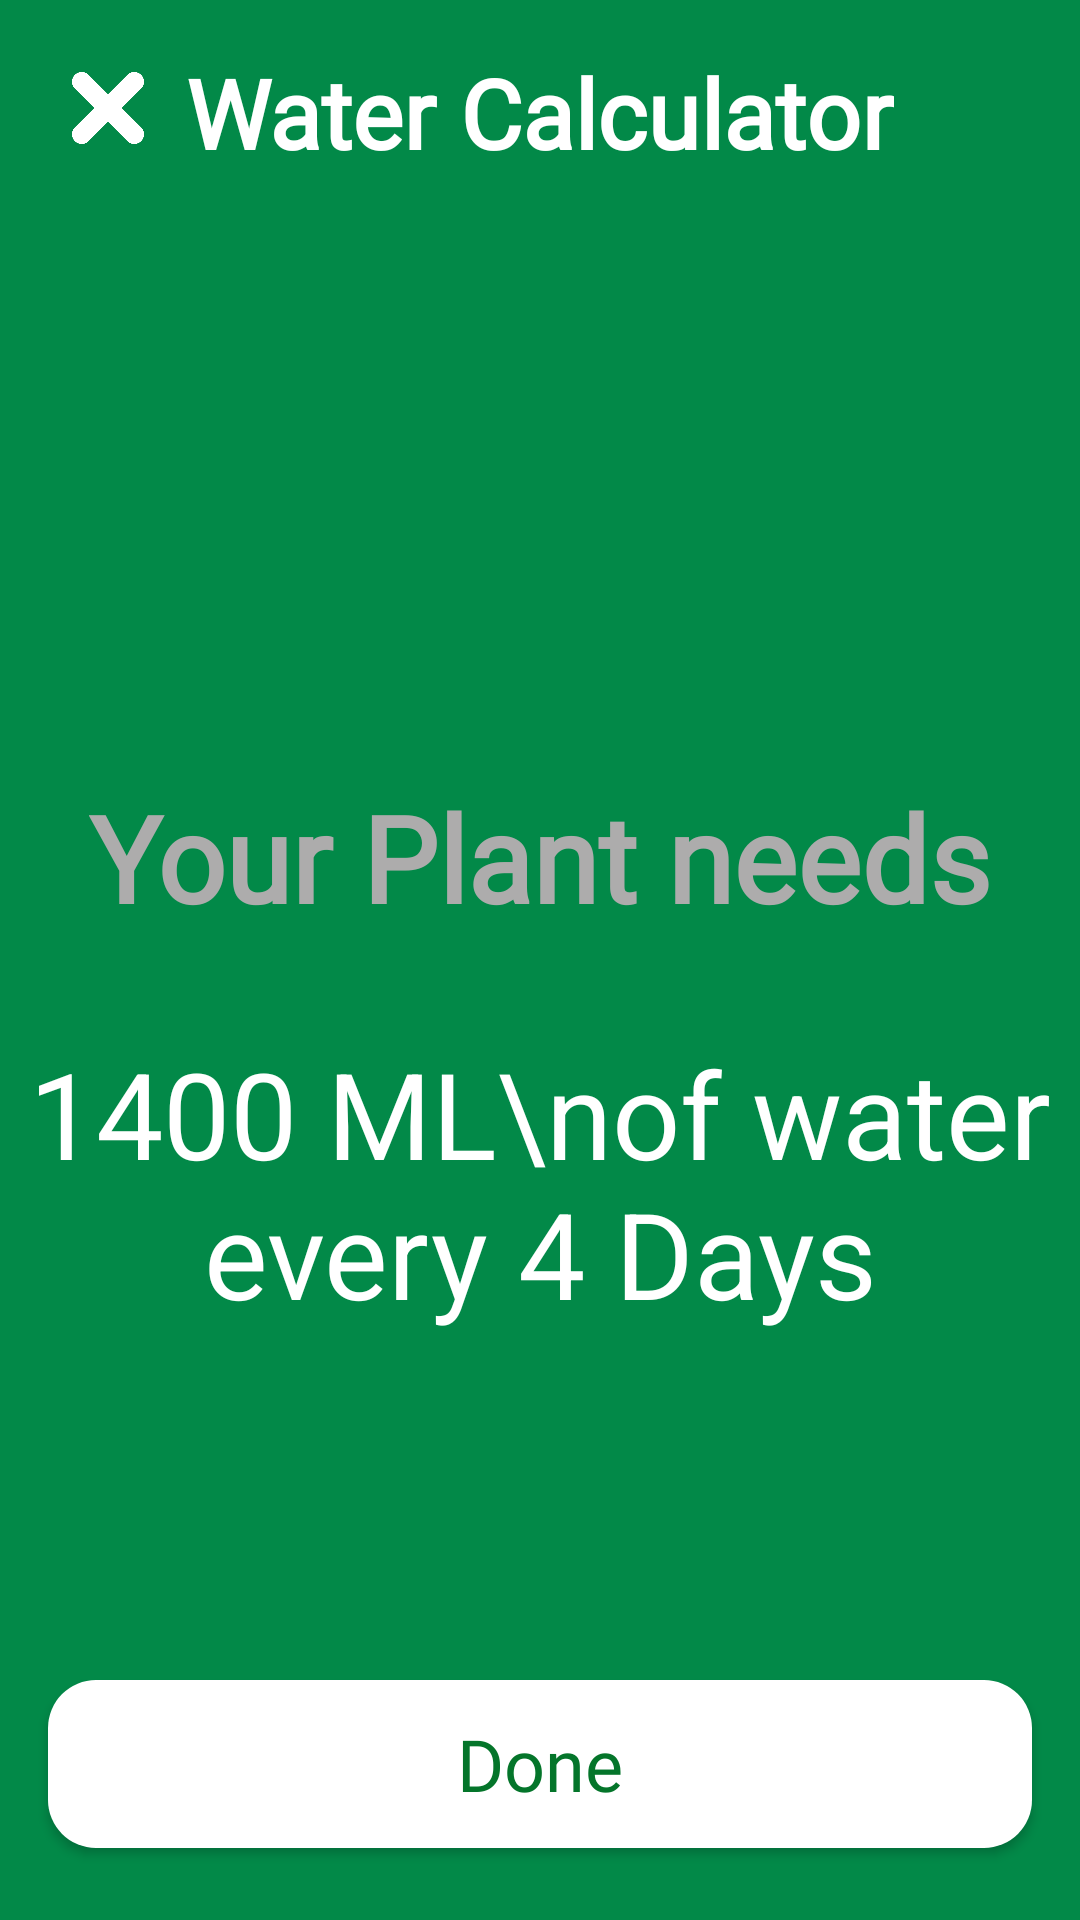

Point at icon controls on the screen. Image size 1080px x 1920px, points as (x,y).
close: (108,108)
